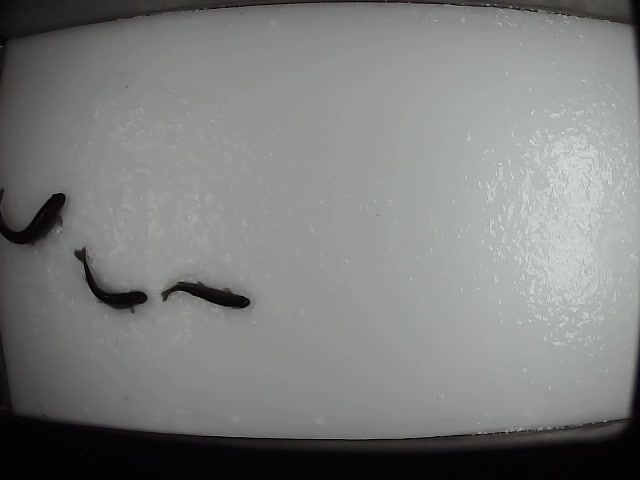Fish: (73, 247, 148, 314), (161, 281, 251, 309)
